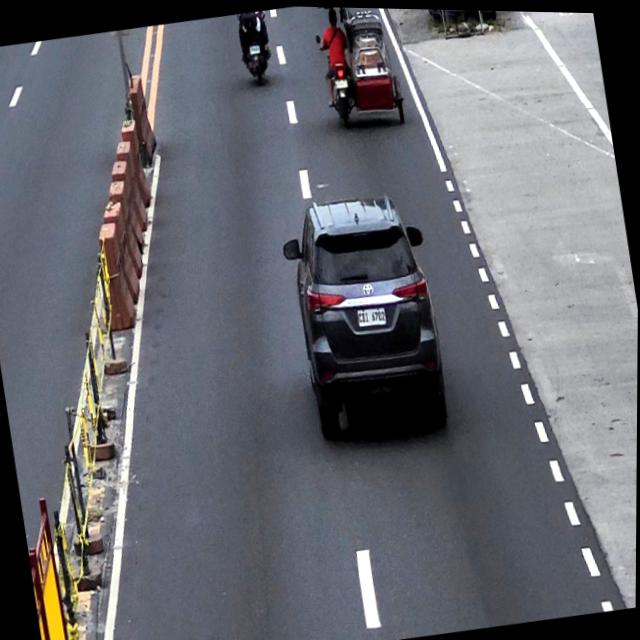Car: (275, 184, 456, 448)
License-Plate: (357, 305, 387, 326), (334, 77, 349, 88)
Tricycle: (308, 5, 408, 140)
